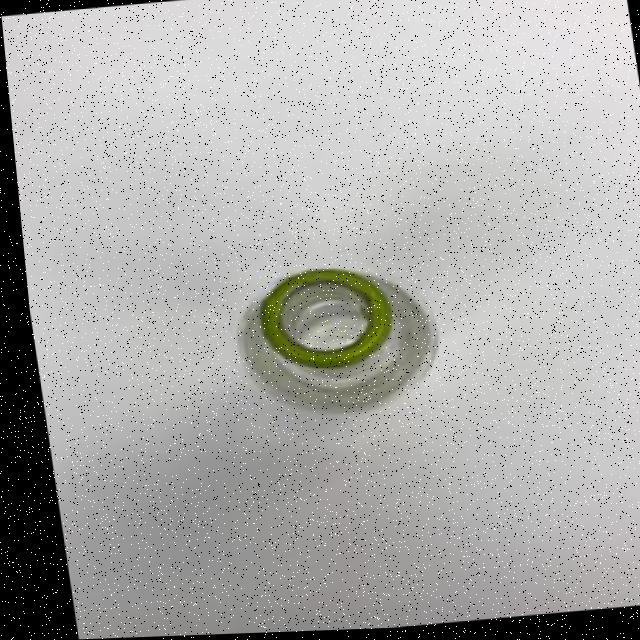glass: (219, 254, 448, 426)
